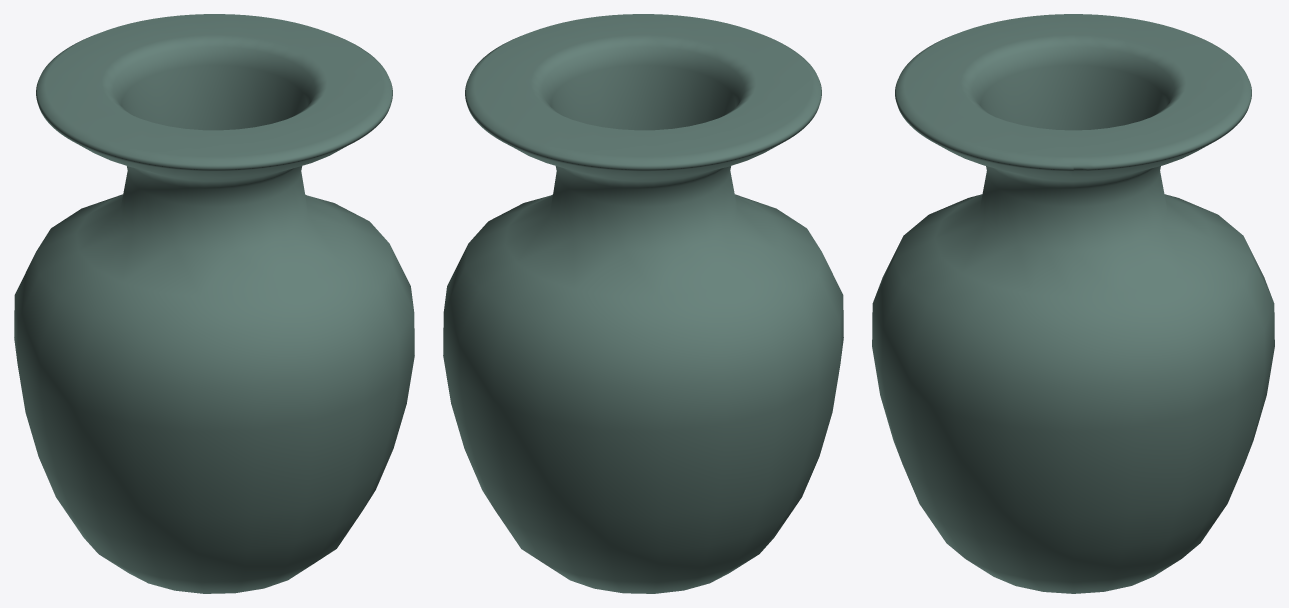
Rendered from Pot groen.fbx.
The picture shows the model from 3 angles, left to right: view 1: azimuth 30°, elevation 25°; view 2: azimuth 150°, elevation 25°; view 3: azimuth 270°, elevation 25°; orthographic projection.
Parts seen in each view (by area): view 1: Pot; view 2: Pot; view 3: Pot.
Boxes of the visible parts, x1,y1,x2,y2 form: Pot: [14, 14, 414, 593]; Pot: [443, 14, 843, 593]; Pot: [872, 14, 1274, 593].
Bounding box in the file's own units: 0.4245 × 0.5537 × 0.4245.
